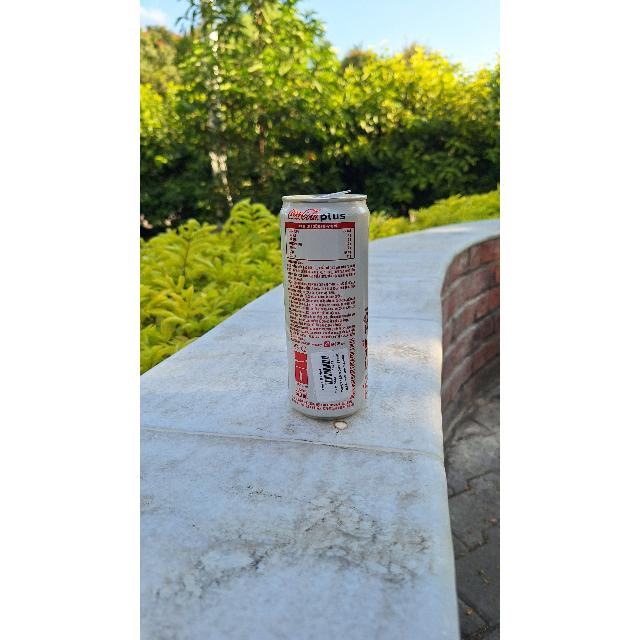Coca Cola Plus: (278, 189, 374, 419)
